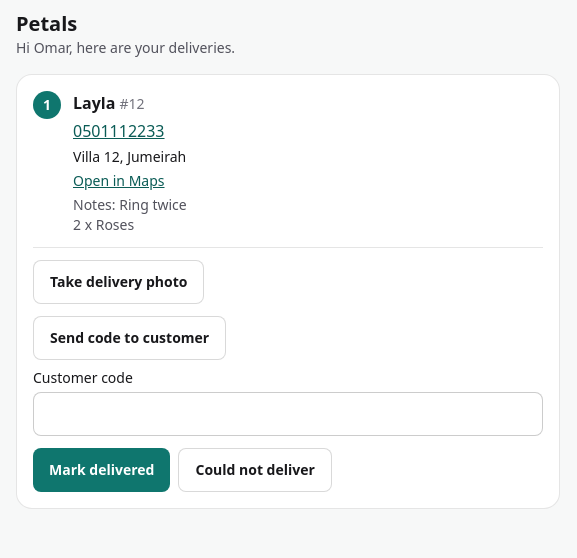
driver page › shows the server's reason when a delivery is refused
Expected: the text "Layla" is shown, x1=73 y1=92 x2=115 y2=114
Click the button "Mark delivered".
click(102, 470)  # box x1=33 y1=448 x2=170 y2=492
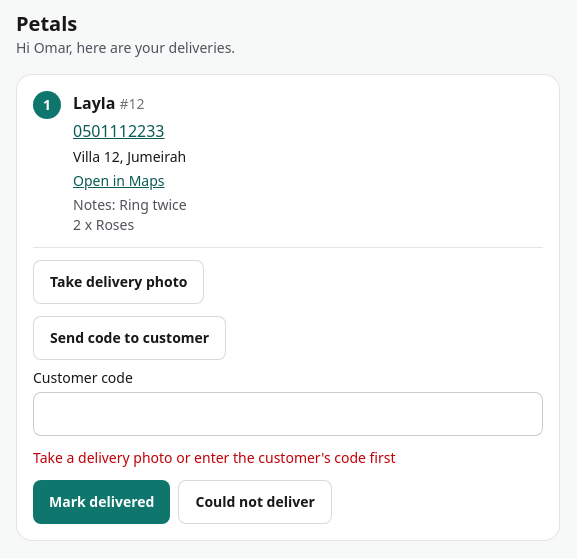
Expected: the message shows "Take a delivery photo", x1=33 y1=448 x2=396 y2=467
